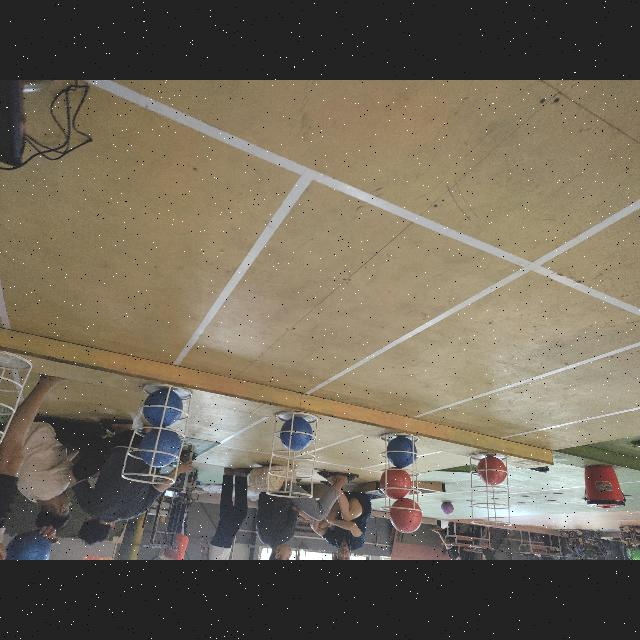B: (140, 427, 180, 468), (142, 389, 184, 427), (280, 416, 312, 452), (387, 437, 417, 467)
R: (390, 498, 422, 534), (380, 468, 412, 498), (477, 456, 507, 486)
